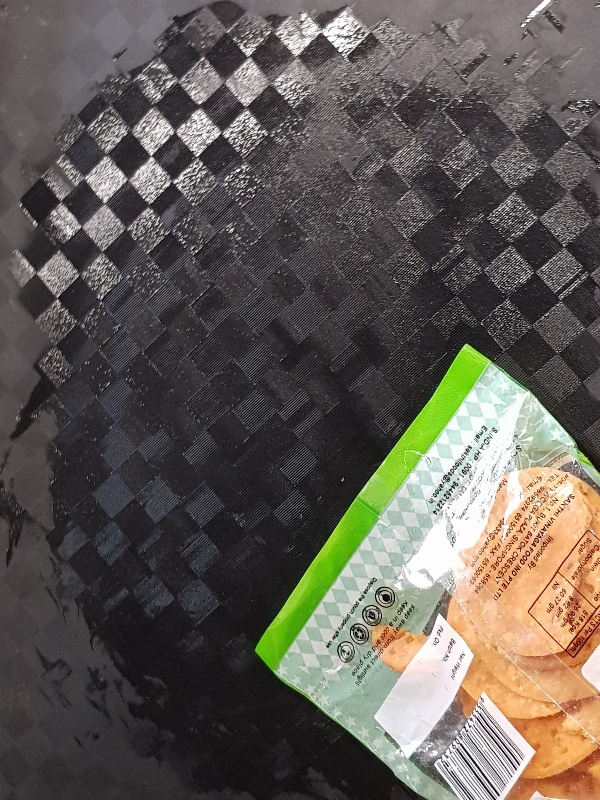Star Tidbits 'O' Ring: (251, 344, 600, 798)
